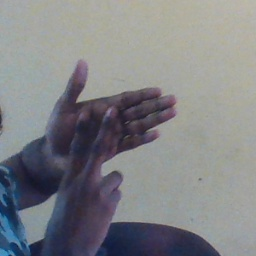N: (37, 56, 188, 211)
